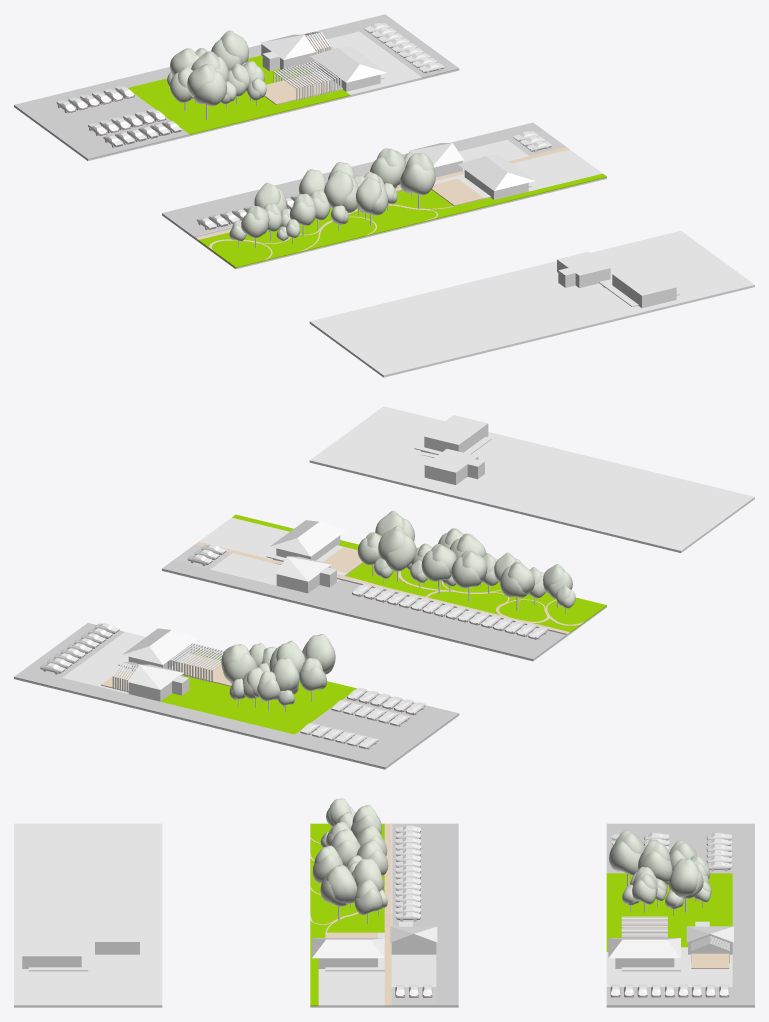
File: vag.gltf
The picture shows the model from 3 angles, top to bottom: view 1: azimuth 30°, elevation 25°; view 2: azimuth 150°, elevation 25°; view 3: azimuth 270°, elevation 25°; orthographic projection.
Parts seen in each view (by area): view 1: vag; view 2: vag; view 3: vag.
Part boxes in pixels (left/top/right/bottom): vag: left=14, top=14, right=754, bottom=377; vag: left=14, top=406, right=754, bottom=769; vag: left=14, top=798, right=754, bottom=1007.
Size of the model in its own units: 290 by 42.73 by 500.
